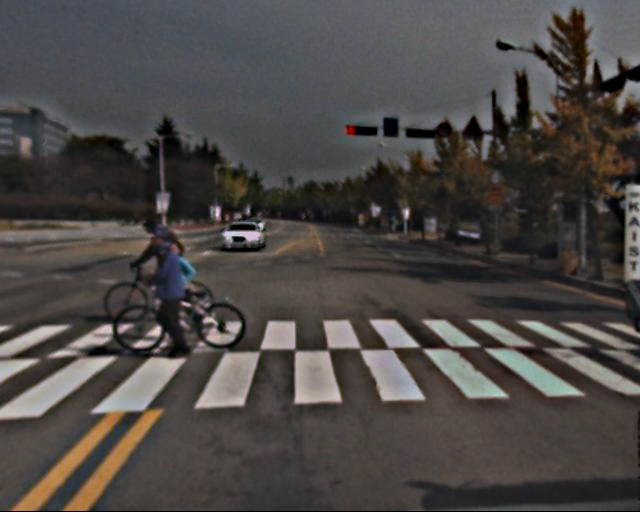person: (143, 218, 198, 356)
